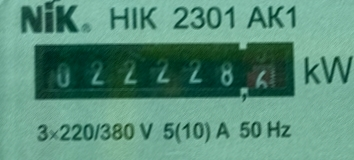0: (53, 60, 69, 89)
2: (86, 57, 105, 87), (185, 57, 203, 86), (152, 56, 170, 84), (120, 57, 137, 86)
5: (252, 44, 267, 64)
6: (252, 67, 268, 88)
8: (217, 59, 233, 87)
screen: (24, 30, 303, 109)
